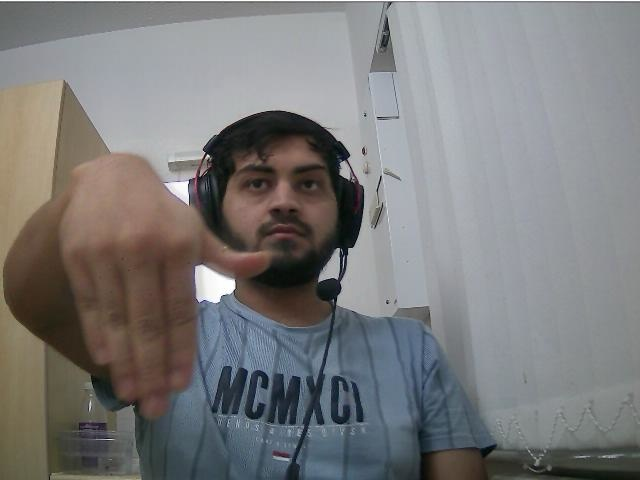down: (61, 156, 197, 421)
